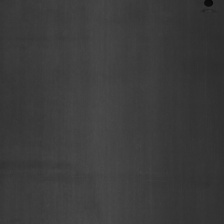punching_hole: (202, 0, 216, 13)
